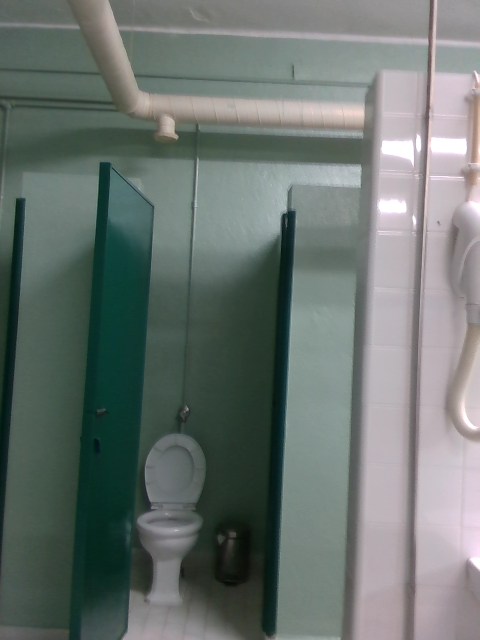open: (69, 155, 152, 639)
